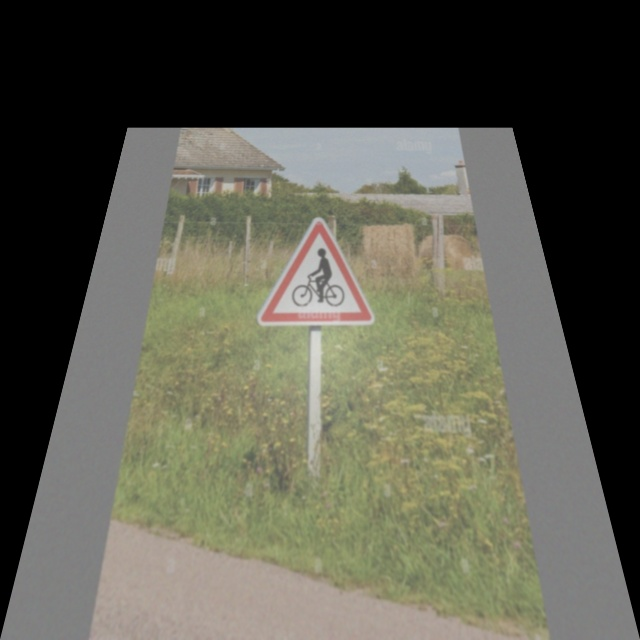Cycle_Crossing: (265, 219, 376, 330)
